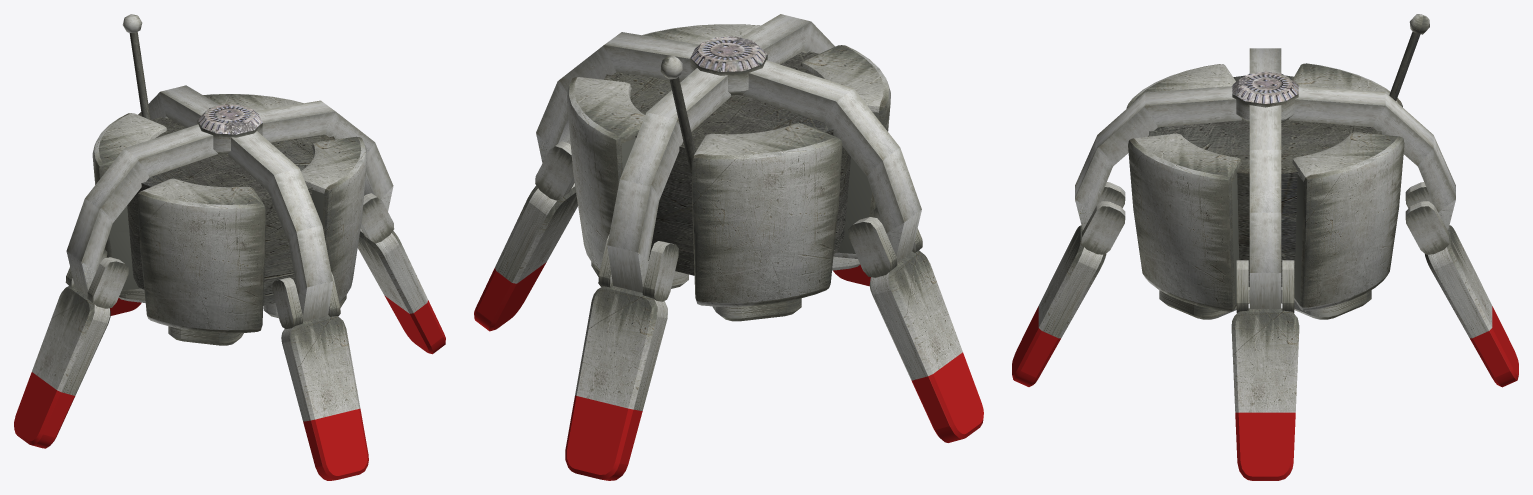
File: static.glb
3 views of the same model, side by side, from view 1: azimuth 30°, elevation 25°; view 2: azimuth 150°, elevation 25°; view 3: azimuth 270°, elevation 25° (orthographic). The views are drawn at different scales.
Parts seen in each view (by area): view 1: Tube_1_2, Cube_11, Cube_10, Cylinder_1, Tube_1, Extrude_6, Extrude_9, Cube_9, Tube_1_3, Extrude_5, Extrude_3, Extrude_8 (+9 smaller); view 2: Tube_1_3, Cube_11, Cube_12, Cylinder_1, Tube_1_4, Extrude_12, Extrude_9, Cube_9, Tube_1_2, Extrude_11, Extrude_3, Extrude_8 (+9 smaller); view 3: Tube_1, Tube_1_4, Cylinder_1, Cube_10, Cube_12, Cube_9, Extrude_3, Extrude_2, Extrude_6, Extrude_12, Cylinder_2, Extrude_4 (+10 smaller).
Boxes of the visible parts, <box> form: Tube_1_2: <box>137,178,265,333</box>; Cube_11: <box>66,124,217,295</box>; Cube_10: <box>228,131,332,321</box>; Cylinder_1: <box>127,117,334,305</box>; Tube_1: <box>301,136,367,303</box>; Extrude_6: <box>281,315,360,421</box>; Extrude_9: <box>32,286,110,395</box>; Cube_9: <box>255,100,393,211</box>; Tube_1_3: <box>92,113,167,294</box>; Extrude_5: <box>303,408,368,480</box>; Extrude_3: <box>357,228,427,313</box>; Extrude_8: <box>14,372,75,448</box>; Tube_1_3: <box>691,123,842,306</box>; Cube_11: <box>743,60,921,262</box>; Cube_12: <box>607,68,730,292</box>; Cylinder_1: <box>604,51,850,275</box>; Tube_1_4: <box>567,77,645,270</box>; Extrude_12: <box>575,285,667,410</box>; Extrude_9: <box>869,250,962,380</box>; Cube_9: <box>536,32,699,162</box>; Tube_1_2: <box>800,45,890,259</box>; Extrude_11: <box>565,395,642,480</box>; Extrude_3: <box>495,183,577,283</box>; Extrude_8: <box>911,352,983,442</box>; Tube_1: <box>1128,133,1241,311</box>; Tube_1_4: <box>1292,132,1404,311</box>; Cylinder_1: <box>1149,75,1381,286</box>; Cube_10: <box>1075,86,1241,229</box>; Cube_12: <box>1289,86,1455,229</box>; Cube_9: <box>1249,105,1281,308</box>; Extrude_3: <box>1231,308,1299,412</box>; Extrude_2: <box>1235,412,1295,480</box>; Extrude_6: <box>1038,225,1106,338</box>; Extrude_12: <box>1425,225,1492,338</box>; Cylinder_2: <box>1232,71,1298,122</box>; Extrude_4: <box>1081,182,1125,254</box>.
Size of the model in its own units: 1.68 by 1.29 by 1.68.
5 materials, 5 textured.
